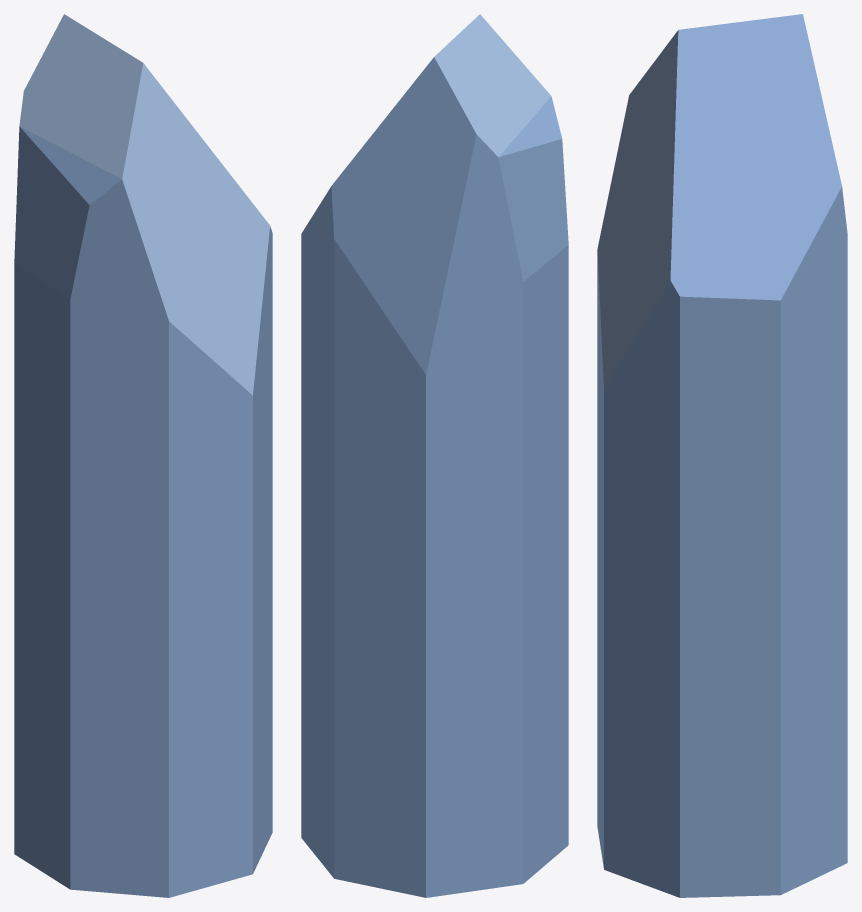
File: crystal_2.fbx
3 views of the same model, side by side, from view 1: azimuth 30°, elevation 25°; view 2: azimuth 150°, elevation 25°; view 3: azimuth 270°, elevation 25° (orthographic).
Visible parts, largest first — view 1: crystal_2; view 2: crystal_2; view 3: crystal_2.
Part boxes in pixels (x1=…): crystal_2: x1=14, y1=14, x2=272, y2=897; crystal_2: x1=301, y1=14, x2=568, y2=897; crystal_2: x1=597, y1=14, x2=847, y2=897.
Size of the model in its own units: 25.16 by 90.15 by 25.16.
